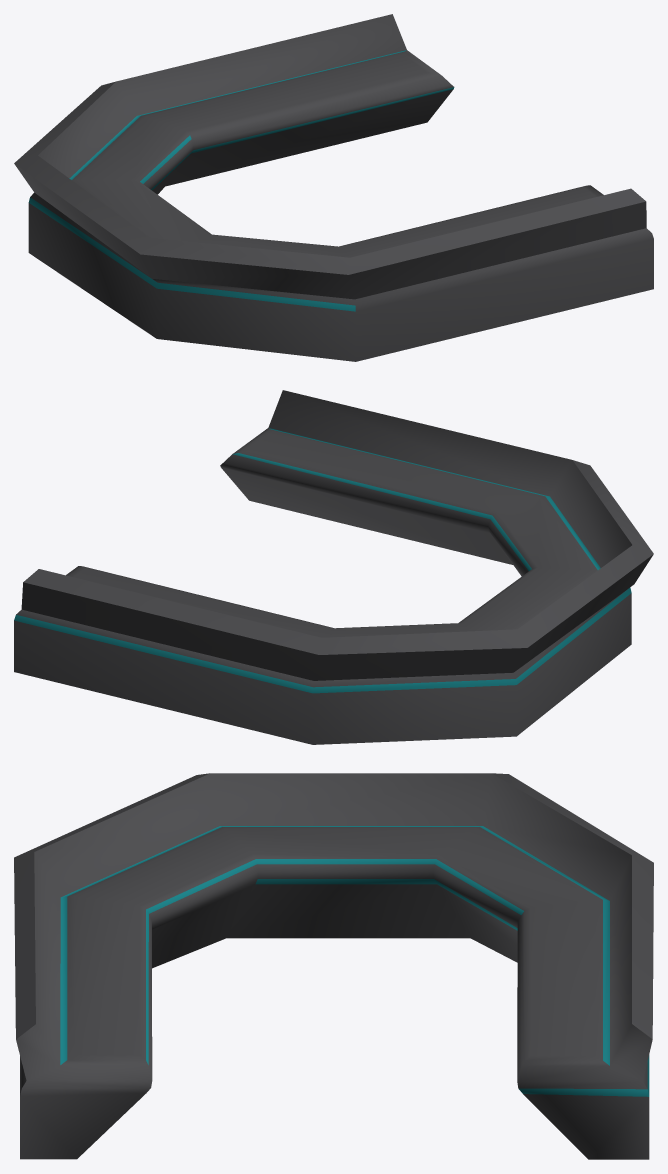
File: Table 1.fbx
3 renders of one model, top to bottom at view 1: azimuth 30°, elevation 25°; view 2: azimuth 150°, elevation 25°; view 3: azimuth 270°, elevation 25°, orthographic. The views are drawn at different scales.
Parts seen in each view (by area): view 1: Table; view 2: Table; view 3: Table.
Boxes of the visible parts, x1=… form: Table: x1=14, y1=14, x2=653, y2=361; Table: x1=14, y1=390, x2=653, y2=744; Table: x1=14, y1=773, x2=653, y2=1159.
Bounding box in the file's own units: 387 × 83.18 × 386.
